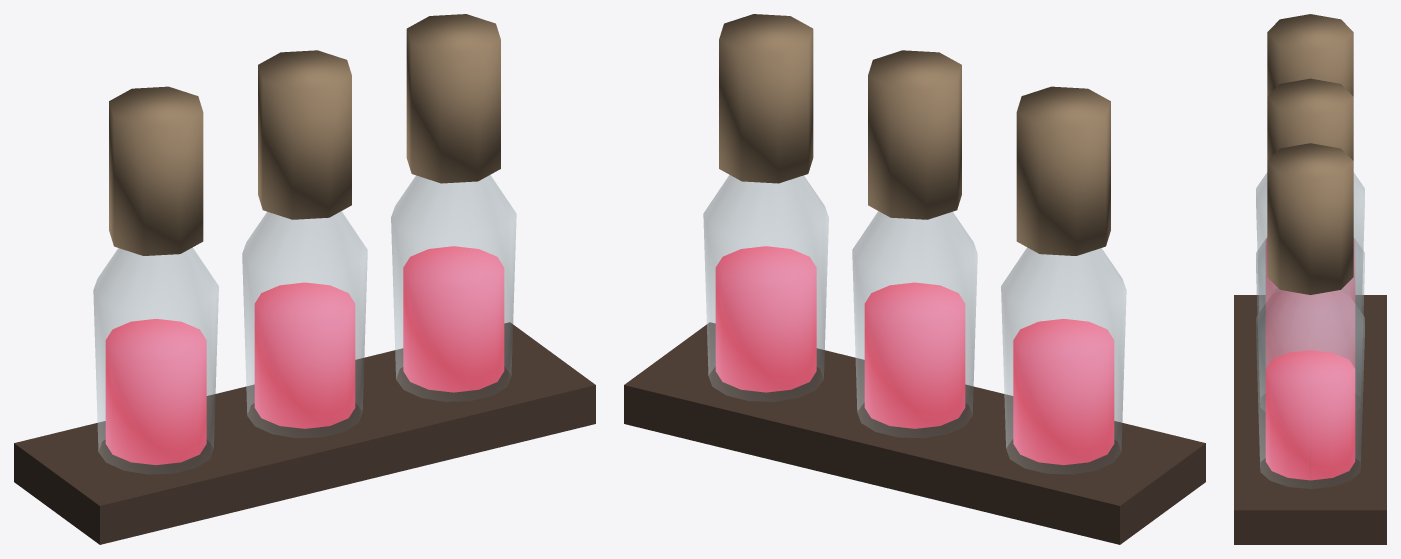
File: potion_tiny_set_red.glb
The picture shows the model from 3 angles, left to right: view 1: azimuth 30°, elevation 25°; view 2: azimuth 150°, elevation 25°; view 3: azimuth 270°, elevation 25°; orthographic projection. The views are drawn at different scales.
Parts seen in each view (by area): view 1: GD_potion_tiny_set_red__m0, GD_potion_tiny_set_red__m3, GD_potion_tiny_set_red__m2, GD_potion_tiny_set_red__m1; view 2: GD_potion_tiny_set_red__m0, GD_potion_tiny_set_red__m3, GD_potion_tiny_set_red__m2, GD_potion_tiny_set_red__m1; view 3: GD_potion_tiny_set_red__m2, GD_potion_tiny_set_red__m0, GD_potion_tiny_set_red__m3, GD_potion_tiny_set_red__m1.
Part boxes in pixels (box(x1,y1,x2,y2)): GD_potion_tiny_set_red__m0: box(93, 175, 516, 474); GD_potion_tiny_set_red__m3: box(14, 322, 595, 544); GD_potion_tiny_set_red__m2: box(109, 14, 500, 255); GD_potion_tiny_set_red__m1: box(105, 246, 504, 465); GD_potion_tiny_set_red__m0: box(703, 175, 1126, 474); GD_potion_tiny_set_red__m3: box(624, 322, 1205, 544); GD_potion_tiny_set_red__m2: box(719, 14, 1110, 255); GD_potion_tiny_set_red__m1: box(715, 246, 1114, 465); GD_potion_tiny_set_red__m2: box(1267, 14, 1353, 294); GD_potion_tiny_set_red__m0: box(1256, 173, 1364, 488); GD_potion_tiny_set_red__m3: box(1234, 295, 1386, 544); GD_potion_tiny_set_red__m1: box(1265, 239, 1355, 480).
Bounding box in the file's own units: 0.2 × 0.1475 × 0.06.
